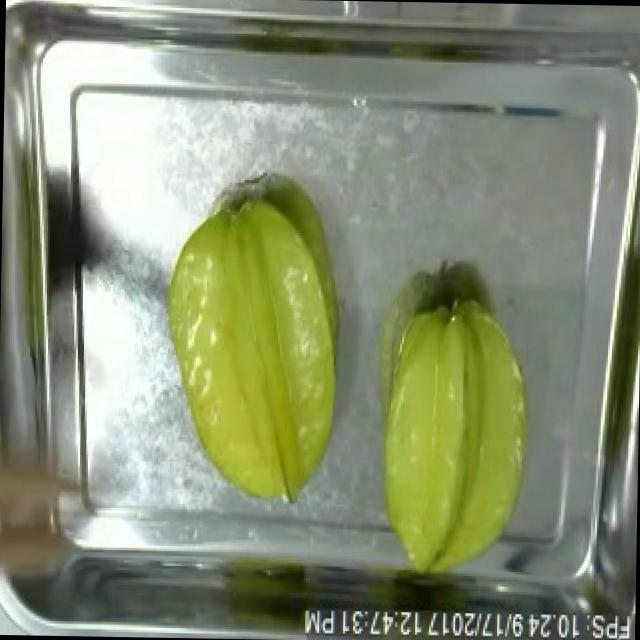fruit: (154, 178, 354, 512), (366, 276, 544, 587)
